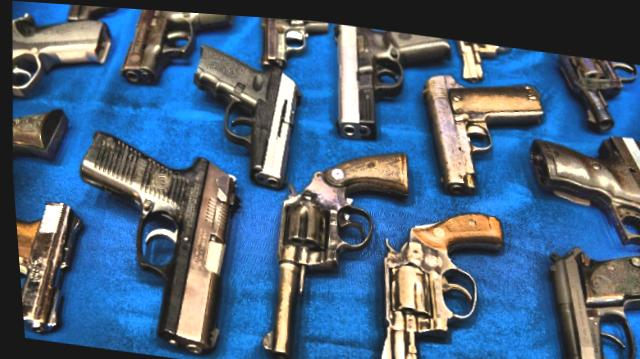pistol: (241, 124, 421, 359), (67, 125, 246, 354), (360, 192, 510, 359), (181, 33, 309, 188), (413, 63, 550, 200), (322, 17, 460, 146), (528, 229, 640, 359), (11, 194, 91, 341), (112, 6, 242, 91), (550, 45, 640, 126), (254, 13, 331, 74)
